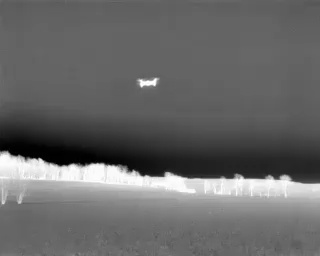DRONE: (133, 73, 164, 94)
